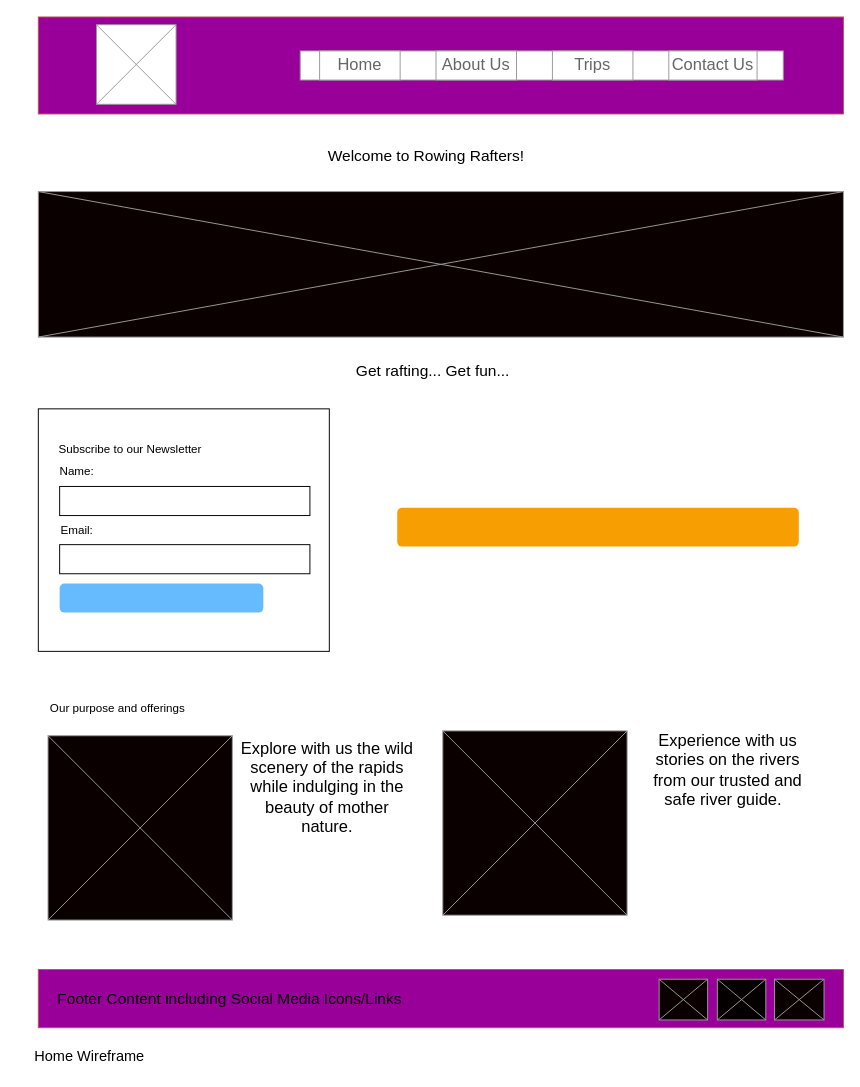
Some shapes in this 860 by 1087 pixel diagram are drawn without their labels. The box of each missing label's shape, as (x1, y1, x2, y2) in pixels:
Book your trips adventure now...Click here to get started!: (397, 507, 798, 546)
Subscribe: (59, 583, 263, 612)
